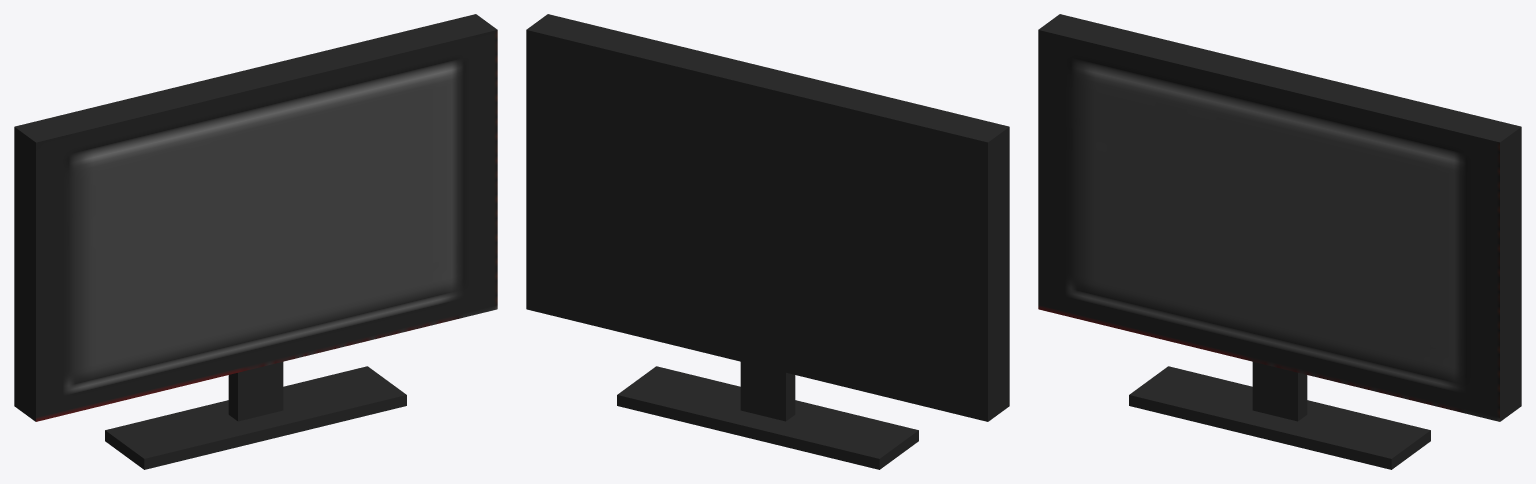
File: MediumTV.fbx
3 renders of one model, left to right at view 1: azimuth 30°, elevation 25°; view 2: azimuth 150°, elevation 25°; view 3: azimuth 330°, elevation 25°, orthographic.
Visible parts, largest first — view 1: Maya_File_Assets:TexturedAssetsCurrent:JohnPepper02Assets:TV; view 2: Maya_File_Assets:TexturedAssetsCurrent:JohnPepper02Assets:TV; view 3: Maya_File_Assets:TexturedAssetsCurrent:JohnPepper02Assets:TV.
Boxes of the visible parts, bbox=[...] form: Maya_File_Assets:TexturedAssetsCurrent:JohnPepper02Assets:TV: bbox=[14, 14, 497, 469]; Maya_File_Assets:TexturedAssetsCurrent:JohnPepper02Assets:TV: bbox=[526, 14, 1009, 469]; Maya_File_Assets:TexturedAssetsCurrent:JohnPepper02Assets:TV: bbox=[1038, 14, 1521, 469].
Bounding box in the file's own units: 1.87 × 1.34 × 0.2759.
